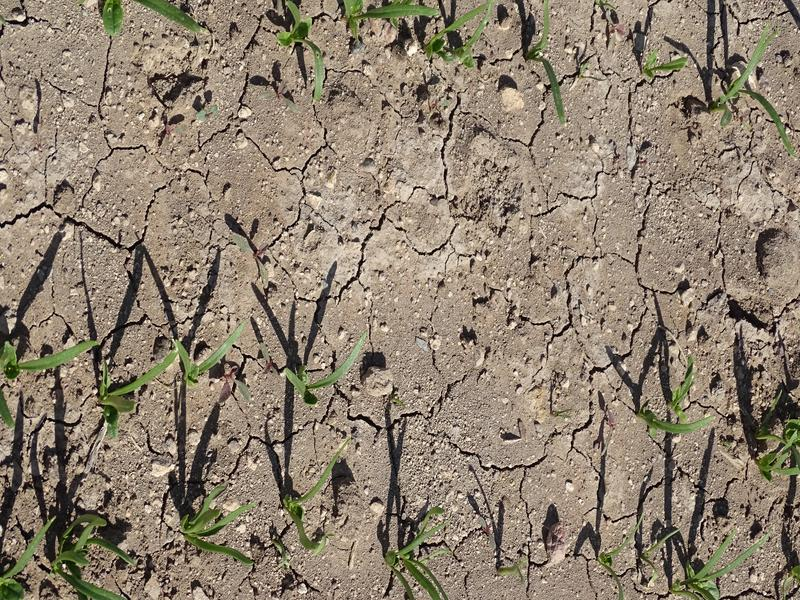Espinaca: (100, 315, 250, 433), (2, 509, 128, 597), (633, 532, 776, 600), (714, 37, 796, 152), (343, 4, 494, 63), (1, 334, 98, 416), (164, 487, 255, 565), (261, 3, 333, 96), (282, 330, 366, 404), (642, 363, 719, 435), (394, 511, 452, 600), (531, 3, 573, 122), (290, 447, 334, 549), (101, 1, 211, 37), (755, 404, 800, 474)
